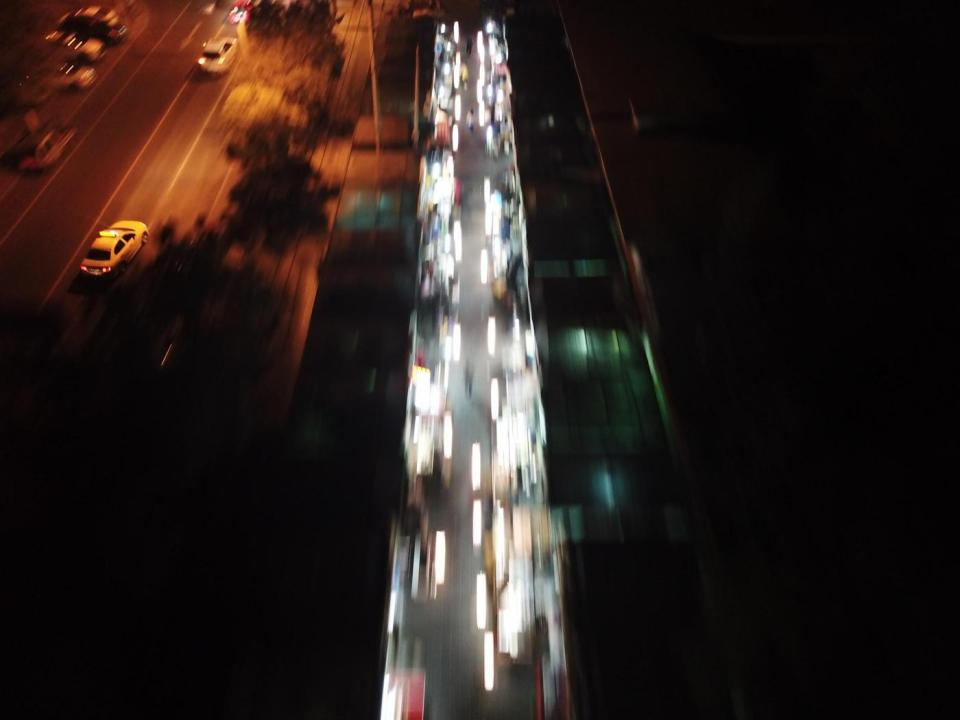car: (79, 219, 149, 278), (15, 122, 78, 173), (25, 61, 96, 90), (38, 29, 105, 59), (59, 16, 126, 45), (198, 36, 239, 76), (64, 5, 118, 27), (228, 0, 255, 26)
van: (628, 95, 654, 138)
